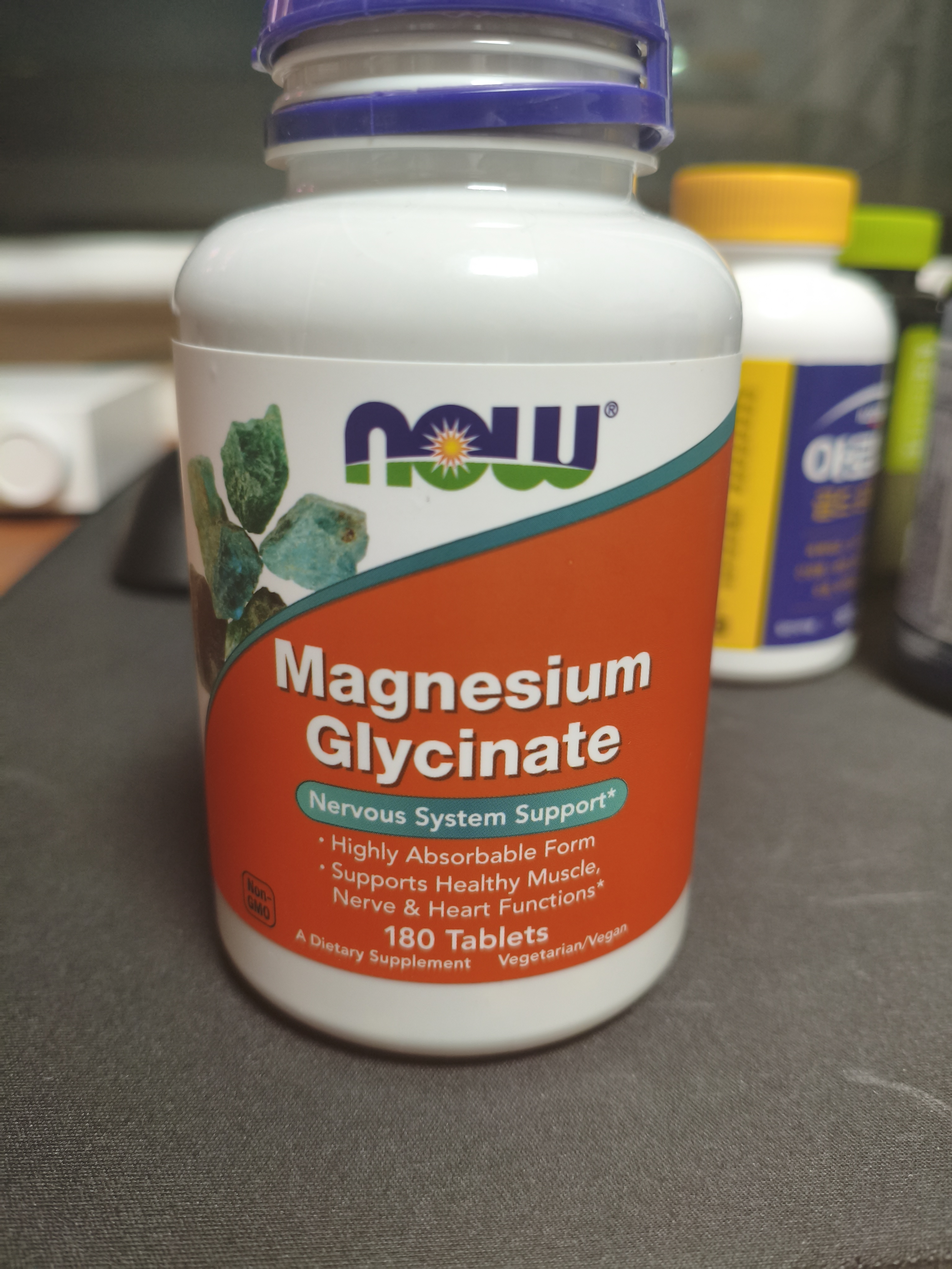supplement_label: (155, 323, 751, 993)
